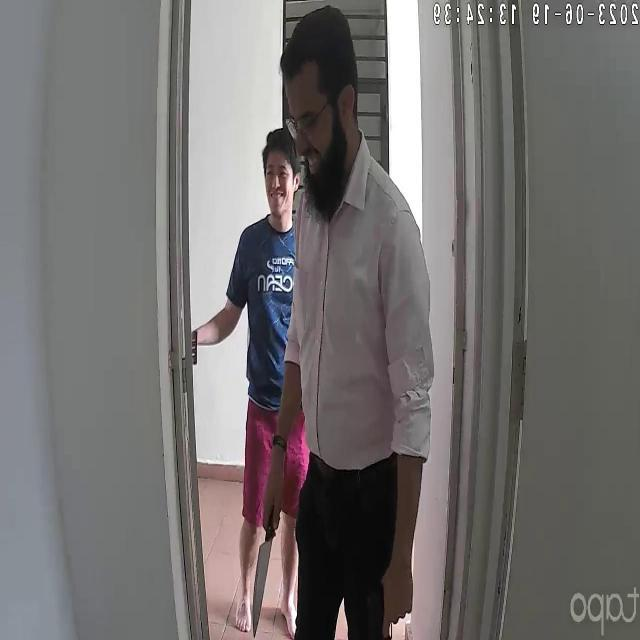Knife: (245, 524, 278, 638)
